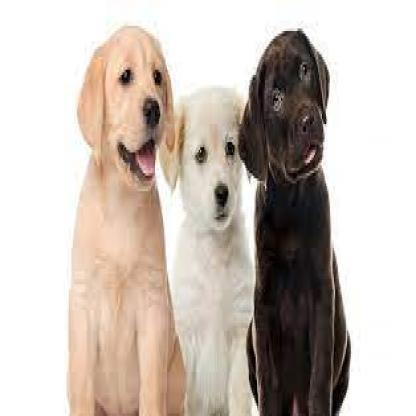dog: (66, 23, 187, 416), (240, 28, 350, 416), (165, 77, 257, 416)
